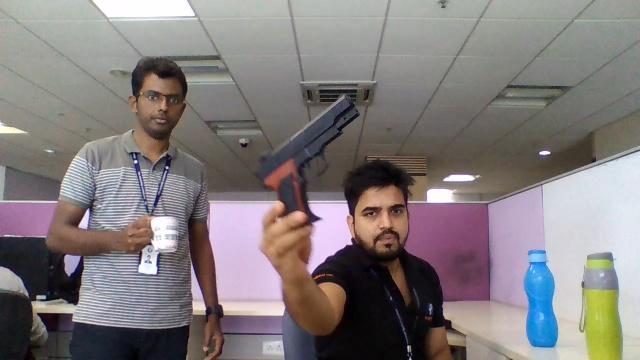gun: (254, 111, 342, 200)
